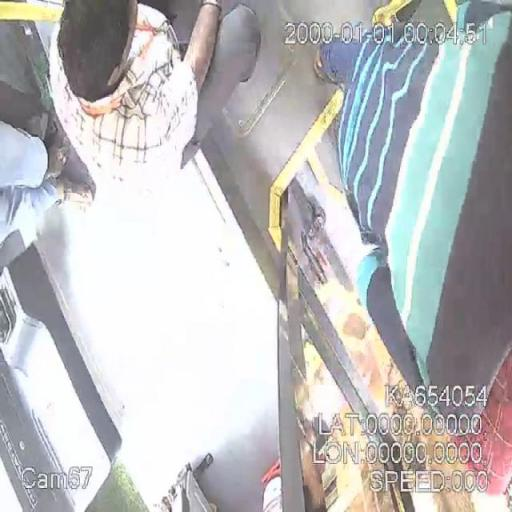persona: (310, 1, 511, 510), (45, 0, 225, 195)
